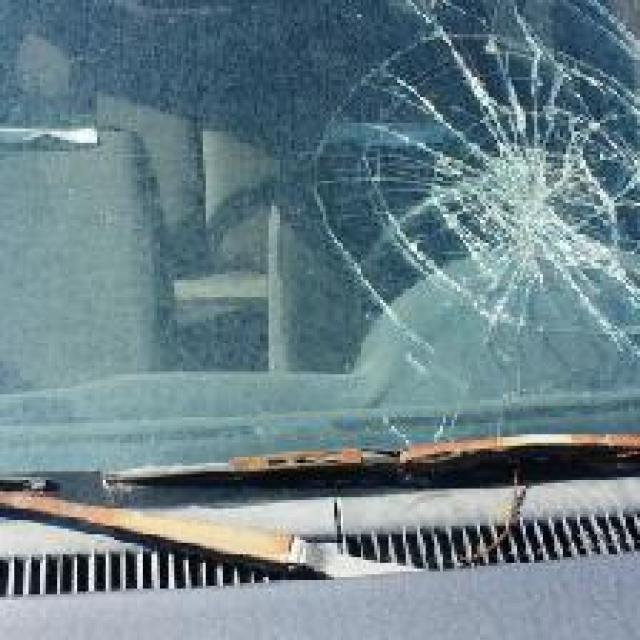damaged: (294, 6, 637, 457)
